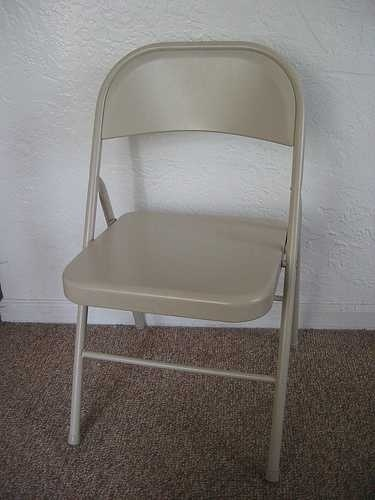obstacle: (63, 42, 302, 480)
